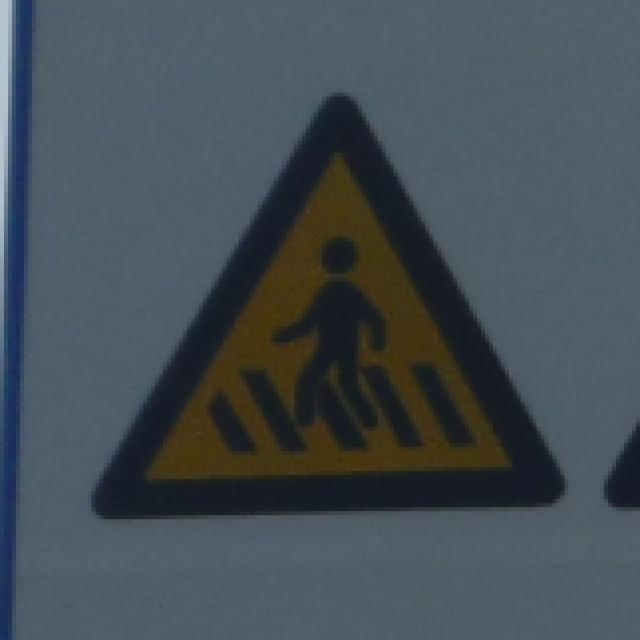Crossing: (76, 80, 568, 526)
